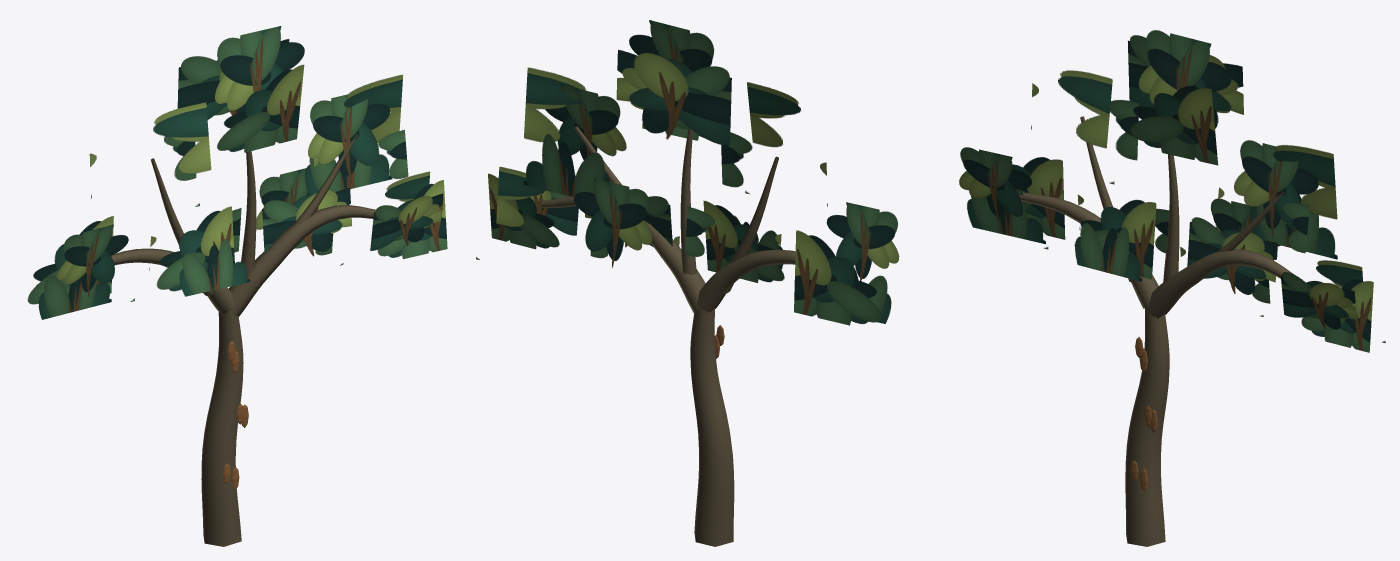
Rendered from TREE_EUCALYPTUS_001_LOD_GAMEPLAY.glb.
3 renders of one model, left to right at view 1: azimuth 30°, elevation 25°; view 2: azimuth 150°, elevation 25°; view 3: azimuth 330°, elevation 25°, orthographic. The views are drawn at different scales.
Visible parts, largest first — view 1: GG_EUC_V4_MAIN_TRUNK, GG_EUC_BODY_ISLAND_02_CLUSTER_01, GG_EUC_FRONT_ISLAND_02_CLUSTER_00, GG_EUC_BODY_ISLAND_03_CLUSTER_00, GG_EUC_V4_RIGHT_PRIMARY, GG_EUC_FRONT_ISLAND_00_CLUSTER_00, GG_EUC_BODY_ISLAND_06_CLUSTER_01, GG_EUC_BODY_ISLAND_05_CLUSTER_00, GG_EUC_FRONT_ISLAND_04_CLUSTER_00, GG_EUC_FRONT_ISLAND_01_CLUSTER_00, GG_EUC_FRONT_ISLAND_05_CLUSTER_00, GG_EUC_REAR_ISLAND_02_CLUSTER_00 (+13 smaller); view 2: GG_EUC_REAR_ISLAND_02_CLUSTER_00, GG_EUC_V4_MAIN_TRUNK, GG_EUC_REAR_ISLAND_00_CLUSTER_00, GG_EUC_REAR_ISLAND_06_CLUSTER_00, GG_EUC_FRONT_ISLAND_00_CLUSTER_00, GG_EUC_BODY_ISLAND_03_CLUSTER_00, GG_EUC_REAR_ISLAND_03_CLUSTER_00, GG_EUC_BODY_ISLAND_05_CLUSTER_00, GG_EUC_BODY_ISLAND_03_CLUSTER_01, GG_EUC_BODY_ISLAND_02_CLUSTER_01, GG_EUC_BODY_ISLAND_04_CLUSTER_01, GG_EUC_FRONT_ISLAND_01_CLUSTER_00 (+10 smaller); view 3: GG_EUC_V4_MAIN_TRUNK, GG_EUC_FRONT_ISLAND_02_CLUSTER_00, GG_EUC_BODY_ISLAND_02_CLUSTER_01, GG_EUC_BODY_ISLAND_03_CLUSTER_00, GG_EUC_FRONT_ISLAND_00_CLUSTER_00, GG_EUC_BODY_ISLAND_06_CLUSTER_01, GG_EUC_FRONT_ISLAND_04_CLUSTER_00, GG_EUC_V4_RIGHT_PRIMARY, GG_EUC_BODY_ISLAND_05_CLUSTER_00, GG_EUC_FRONT_ISLAND_01_CLUSTER_00, GG_EUC_REAR_ISLAND_02_CLUSTER_00, GG_EUC_FRONT_ISLAND_05_CLUSTER_00 (+14 smaller).
Part boxes in pixels (<box>): GG_EUC_V4_MAIN_TRUNK: <box>201,311,243,546</box>; GG_EUC_BODY_ISLAND_02_CLUSTER_01: <box>215,26,304,110</box>; GG_EUC_FRONT_ISLAND_02_CLUSTER_00: <box>217,64,304,152</box>; GG_EUC_BODY_ISLAND_03_CLUSTER_00: <box>308,94,389,183</box>; GG_EUC_V4_RIGHT_PRIMARY: <box>228,205,375,316</box>; GG_EUC_FRONT_ISLAND_00_CLUSTER_00: <box>57,224,128,297</box>; GG_EUC_BODY_ISLAND_06_CLUSTER_01: <box>262,188,351,256</box>; GG_EUC_BODY_ISLAND_05_CLUSTER_00: <box>156,206,234,291</box>; GG_EUC_FRONT_ISLAND_04_CLUSTER_00: <box>370,193,443,250</box>; GG_EUC_FRONT_ISLAND_01_CLUSTER_00: <box>153,102,211,173</box>; GG_EUC_FRONT_ISLAND_05_CLUSTER_00: <box>179,238,250,296</box>; GG_EUC_REAR_ISLAND_02_CLUSTER_00: <box>177,39,289,119</box>; GG_EUC_REAR_ISLAND_02_CLUSTER_00: <box>616,50,731,145</box>; GG_EUC_V4_MAIN_TRUNK: <box>690,308,734,546</box>; GG_EUC_REAR_ISLAND_00_CLUSTER_00: <box>794,230,881,325</box>; GG_EUC_REAR_ISLAND_06_CLUSTER_00: <box>574,178,652,268</box>; GG_EUC_FRONT_ISLAND_00_CLUSTER_00: <box>826,202,899,280</box>; GG_EUC_BODY_ISLAND_03_CLUSTER_00: <box>545,84,626,159</box>; GG_EUC_REAR_ISLAND_03_CLUSTER_00: <box>523,133,609,197</box>; GG_EUC_BODY_ISLAND_05_CLUSTER_00: <box>703,200,784,282</box>; GG_EUC_BODY_ISLAND_03_CLUSTER_01: <box>524,67,586,142</box>; GG_EUC_BODY_ISLAND_02_CLUSTER_01: <box>629,20,714,71</box>; GG_EUC_BODY_ISLAND_04_CLUSTER_01: <box>488,173,559,249</box>; GG_EUC_FRONT_ISLAND_01_CLUSTER_00: <box>746,82,800,147</box>; GG_EUC_V4_MAIN_TRUNK: <box>1125,308,1169,546</box>; GG_EUC_FRONT_ISLAND_02_CLUSTER_00: <box>1130,85,1218,165</box>; GG_EUC_BODY_ISLAND_02_CLUSTER_01: <box>1138,30,1231,121</box>; GG_EUC_BODY_ISLAND_03_CLUSTER_00: <box>1234,140,1318,237</box>; GG_EUC_FRONT_ISLAND_00_CLUSTER_00: <box>959,147,1031,222</box>; GG_EUC_BODY_ISLAND_06_CLUSTER_01: <box>1187,217,1277,294</box>; GG_EUC_FRONT_ISLAND_04_CLUSTER_00: <box>1280,272,1357,329</box>; GG_EUC_V4_RIGHT_PRIMARY: <box>1145,249,1293,318</box>; GG_EUC_BODY_ISLAND_05_CLUSTER_00: <box>1074,199,1156,279</box>; GG_EUC_FRONT_ISLAND_01_CLUSTER_00: <box>1058,70,1112,148</box>; GG_EUC_REAR_ISLAND_02_CLUSTER_00: <box>1128,35,1243,128</box>; GG_EUC_FRONT_ISLAND_05_CLUSTER_00: <box>1075,222,1141,281</box>.
Bounding box in the file's own units: 6.18 × 7.03 × 0.8485.
3 materials, 1 textured.
